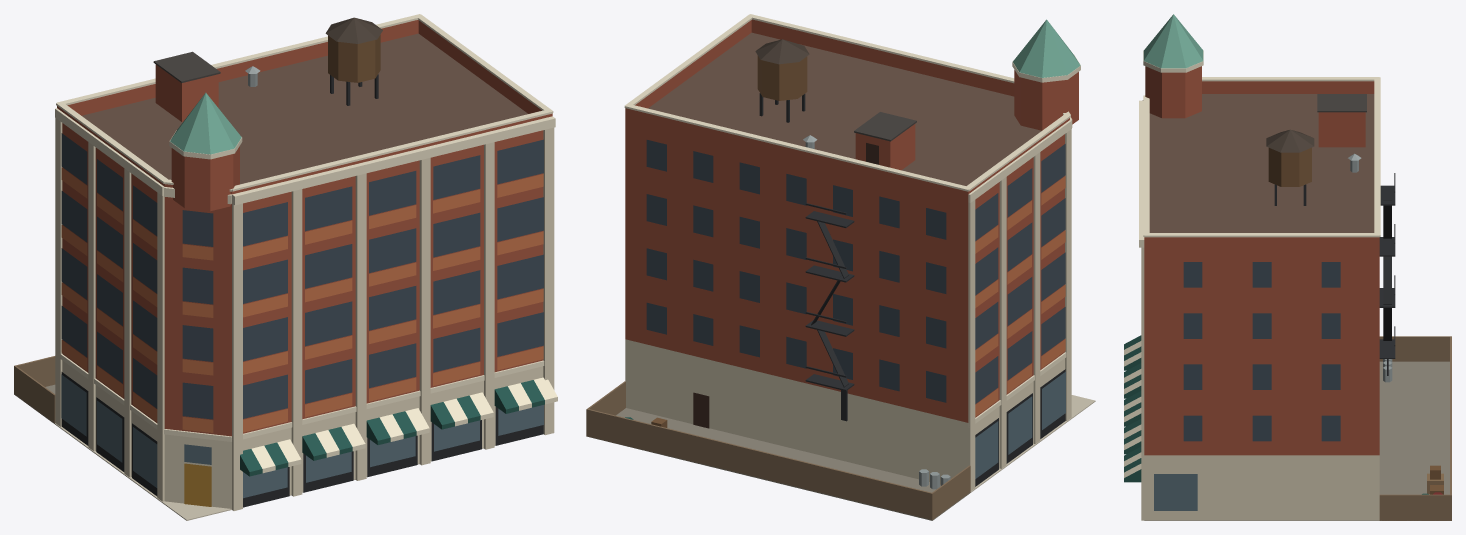
File: office_wk.glb
3 views of the same model, side by side, from view 1: azimuth 30°, elevation 25°; view 2: azimuth 150°, elevation 25°; view 3: azimuth 270°, elevation 25° (orthographic). The views are drawn at different scales.
Parts seen in each view (by area): view 1: office_wk; view 2: office_wk; view 3: office_wk.
Part boxes in pixels (x1=…): office_wk: x1=14, y1=14, x2=557, y2=520; office_wk: x1=586, y1=14, x2=1095, y2=520; office_wk: x1=1124, y1=14, x2=1451, y2=520.
Bounding box in the file's own units: 20 × 21.28 × 17.42.
